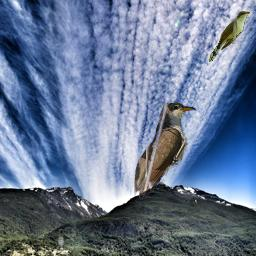Cuckoo: (134, 102, 212, 200), (209, 11, 250, 62)
